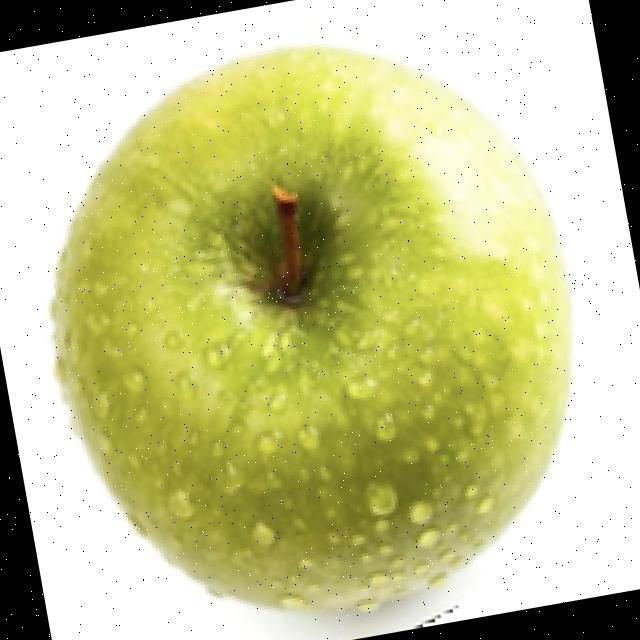apple: (42, 38, 575, 640)
